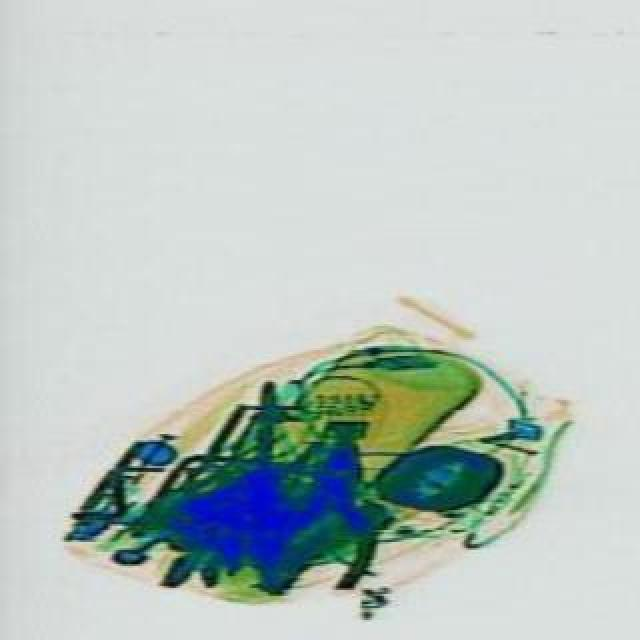wrench: (244, 428, 394, 608)
